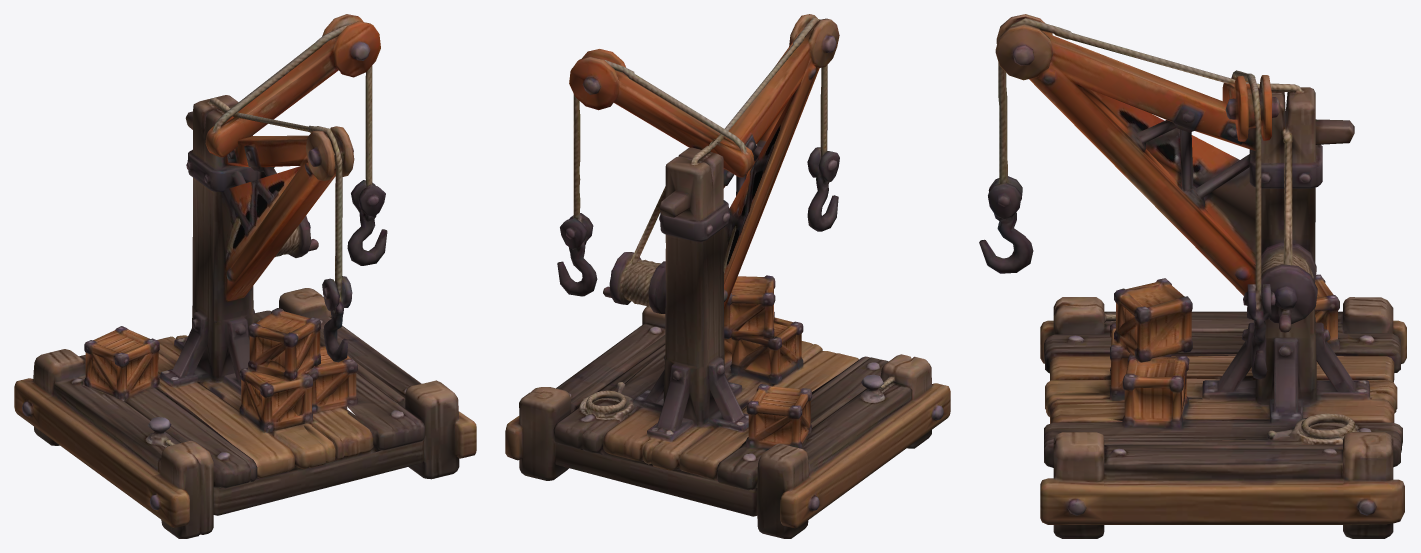
File: crane.glb
The picture shows the model from 3 angles, left to right: view 1: azimuth 30°, elevation 25°; view 2: azimuth 150°, elevation 25°; view 3: azimuth 270°, elevation 25°; orthographic projection. The views are drawn at different scales.
Parts seen in each view (by area): view 1: tripo_node_aad19bf4-cd9d-42bb-b63e-9d3b1c0a41f5; view 2: tripo_node_aad19bf4-cd9d-42bb-b63e-9d3b1c0a41f5; view 3: tripo_node_aad19bf4-cd9d-42bb-b63e-9d3b1c0a41f5.
Boxes of the visible parts, <box> form: tripo_node_aad19bf4-cd9d-42bb-b63e-9d3b1c0a41f5: <box>14,14,476,538</box>; tripo_node_aad19bf4-cd9d-42bb-b63e-9d3b1c0a41f5: <box>505,14,950,538</box>; tripo_node_aad19bf4-cd9d-42bb-b63e-9d3b1c0a41f5: <box>979,14,1406,538</box>.
Size of the model in its own units: 0.8177 by 0.9786 by 0.8445.
1 material, 1 textured.
